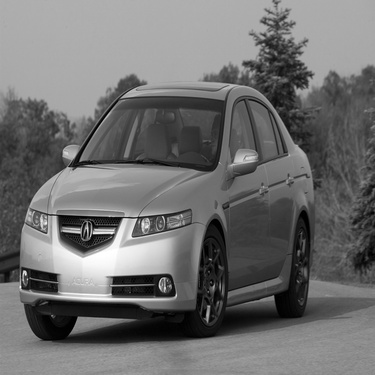car: (5, 81, 316, 327)
